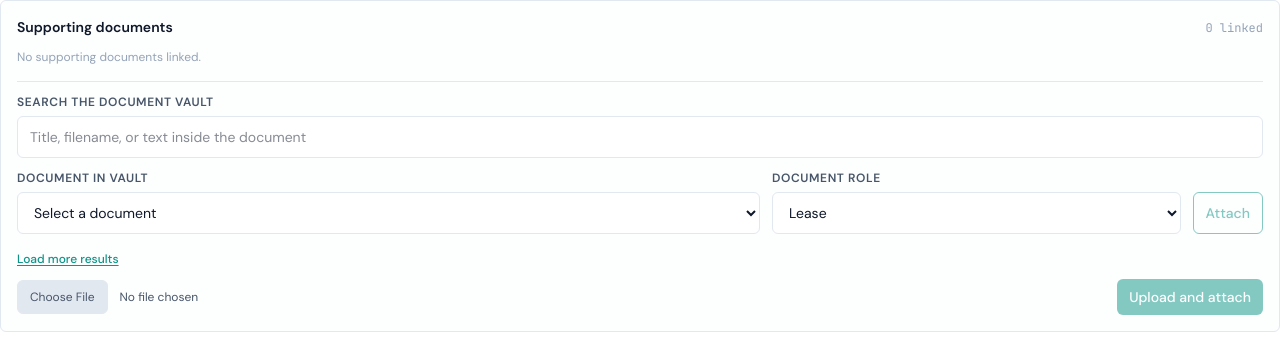
it: LinkedDocumentsPanel › pages past the first result set instead of stopping at one page
Click the button "Load more results" at [68, 259], box x1=17 y1=251 x2=119 y2=267
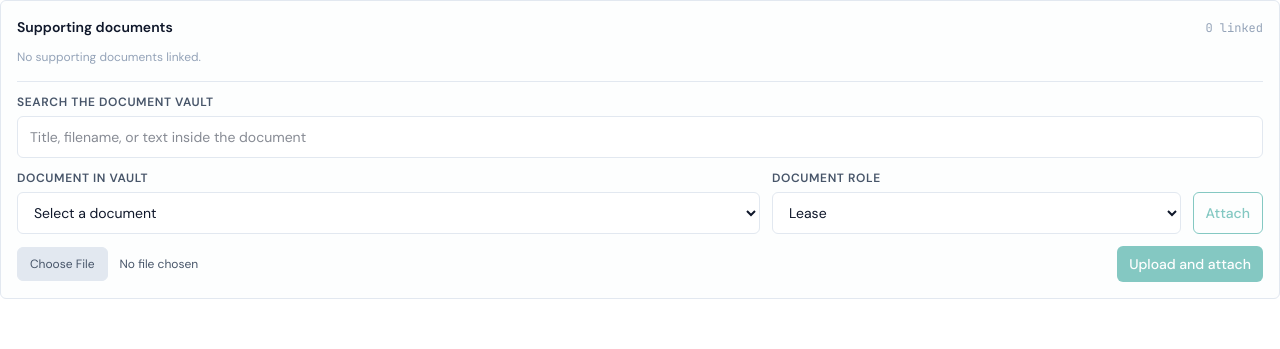
Expected: the button "Load more results" is gone
